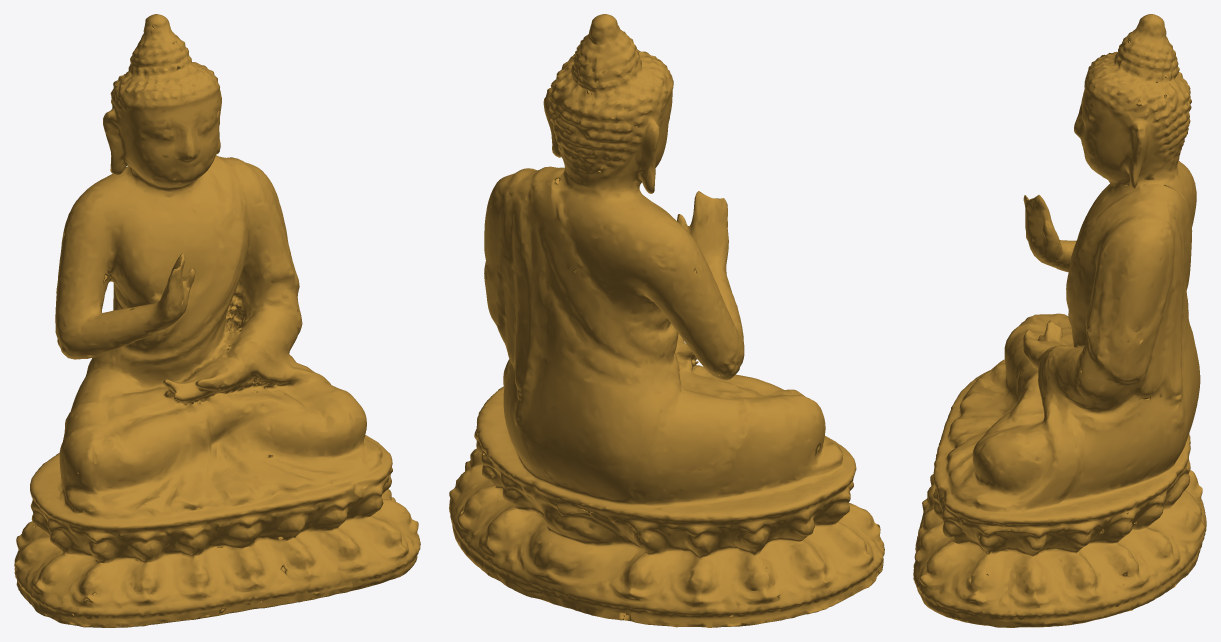
Rendered from amoghasiddhi.glb.
The picture shows the model from 3 angles, left to right: view 1: azimuth 30°, elevation 25°; view 2: azimuth 150°, elevation 25°; view 3: azimuth 270°, elevation 25°; orthographic projection. The views are drawn at different scales.
Visible parts, largest first — view 1: Object_3; view 2: Object_3; view 3: Object_3.
Part boxes in pixels (box(x1,y1,x2,y2)): Object_3: box(14, 14, 420, 627); Object_3: box(449, 14, 884, 627); Object_3: box(913, 14, 1206, 627).
Size of the model in its own units: 0.145 by 0.1969 by 0.0994.
